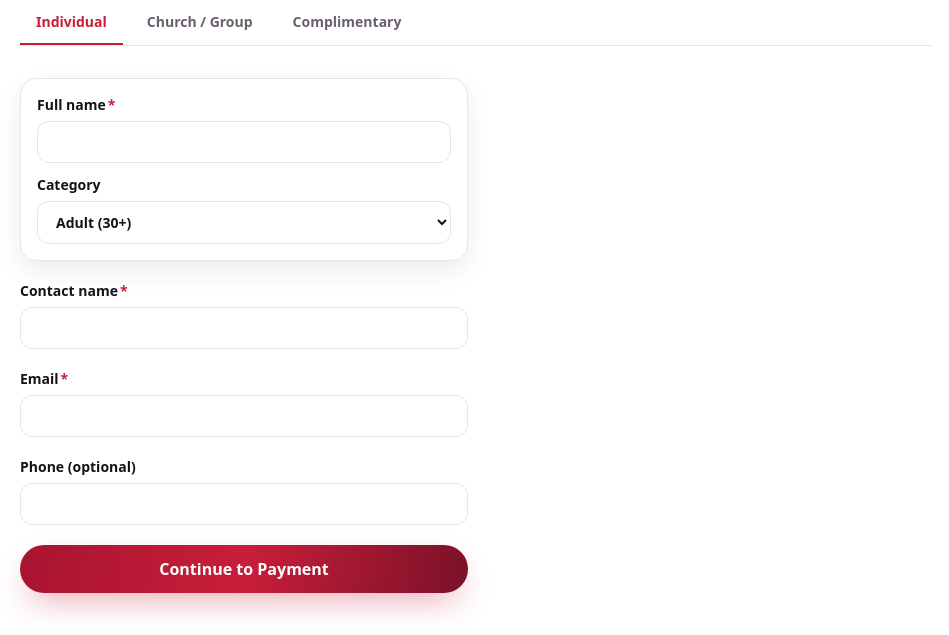
Test: RegisterPageClient › disables the submit button while the request is in flight
In the field labelled "Full name": (244, 142) [37,121,451,163], type "Jane Doe"
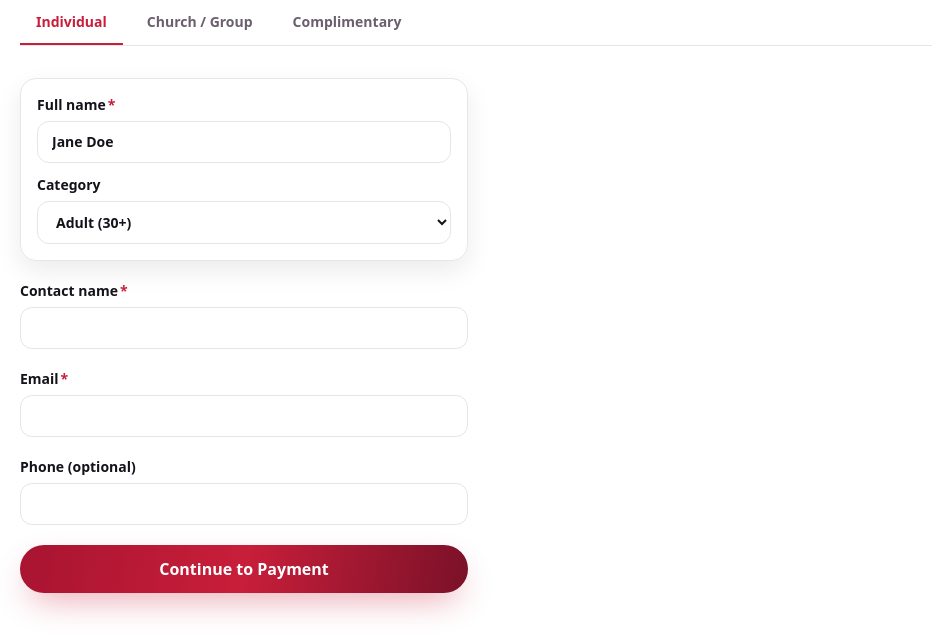
In the field labelled "Contact name": (244, 328) [20,307,468,349], type "Jane Doe"
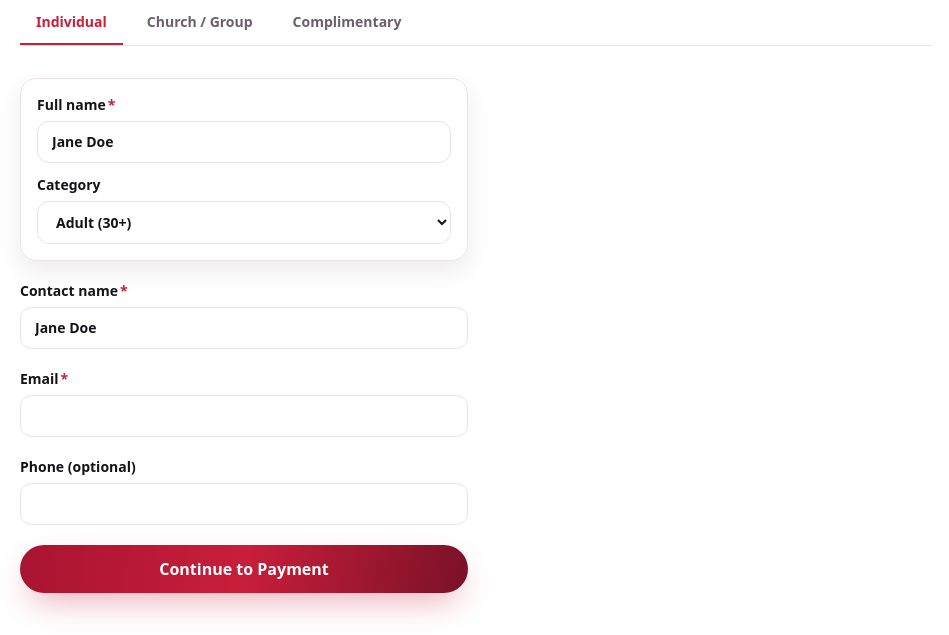
In the field labelled "Email": (244, 416) [20,395,468,437], type "jane@example.com"
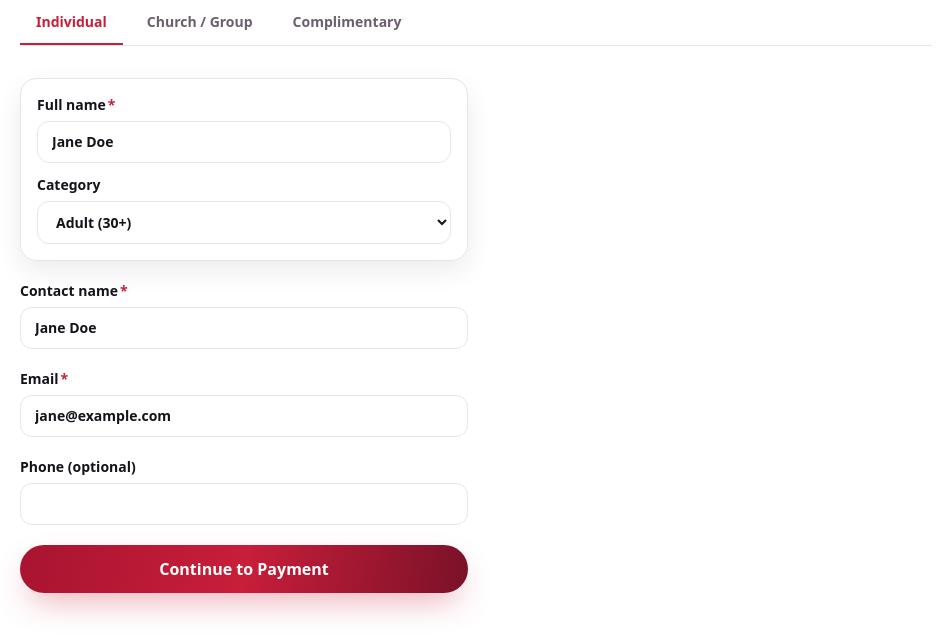
Click the button "Continue to Payment": (244, 569) [20,545,468,593]
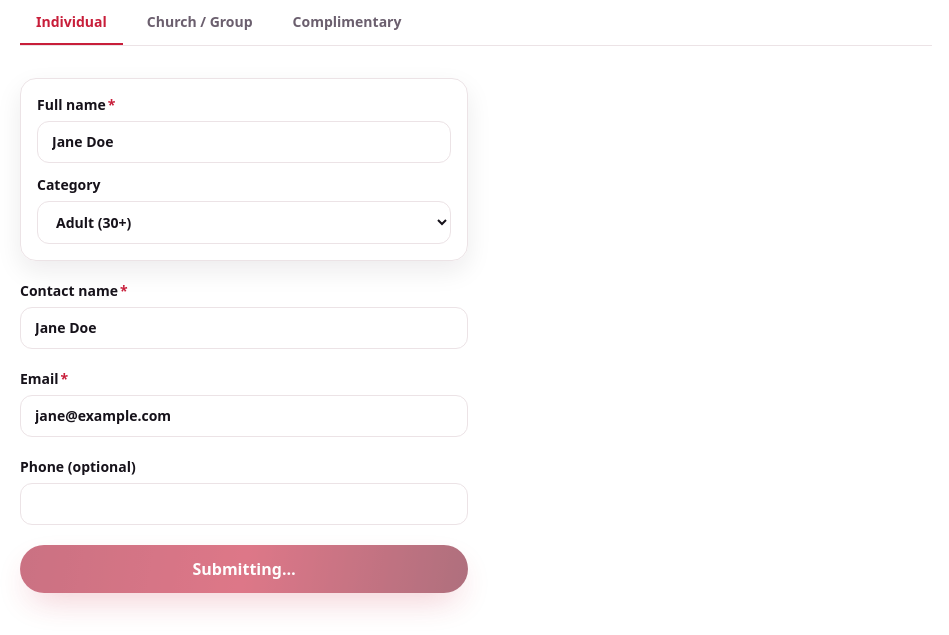
Check: the button "Submitting…" is disabled, box [20,545,468,593]
